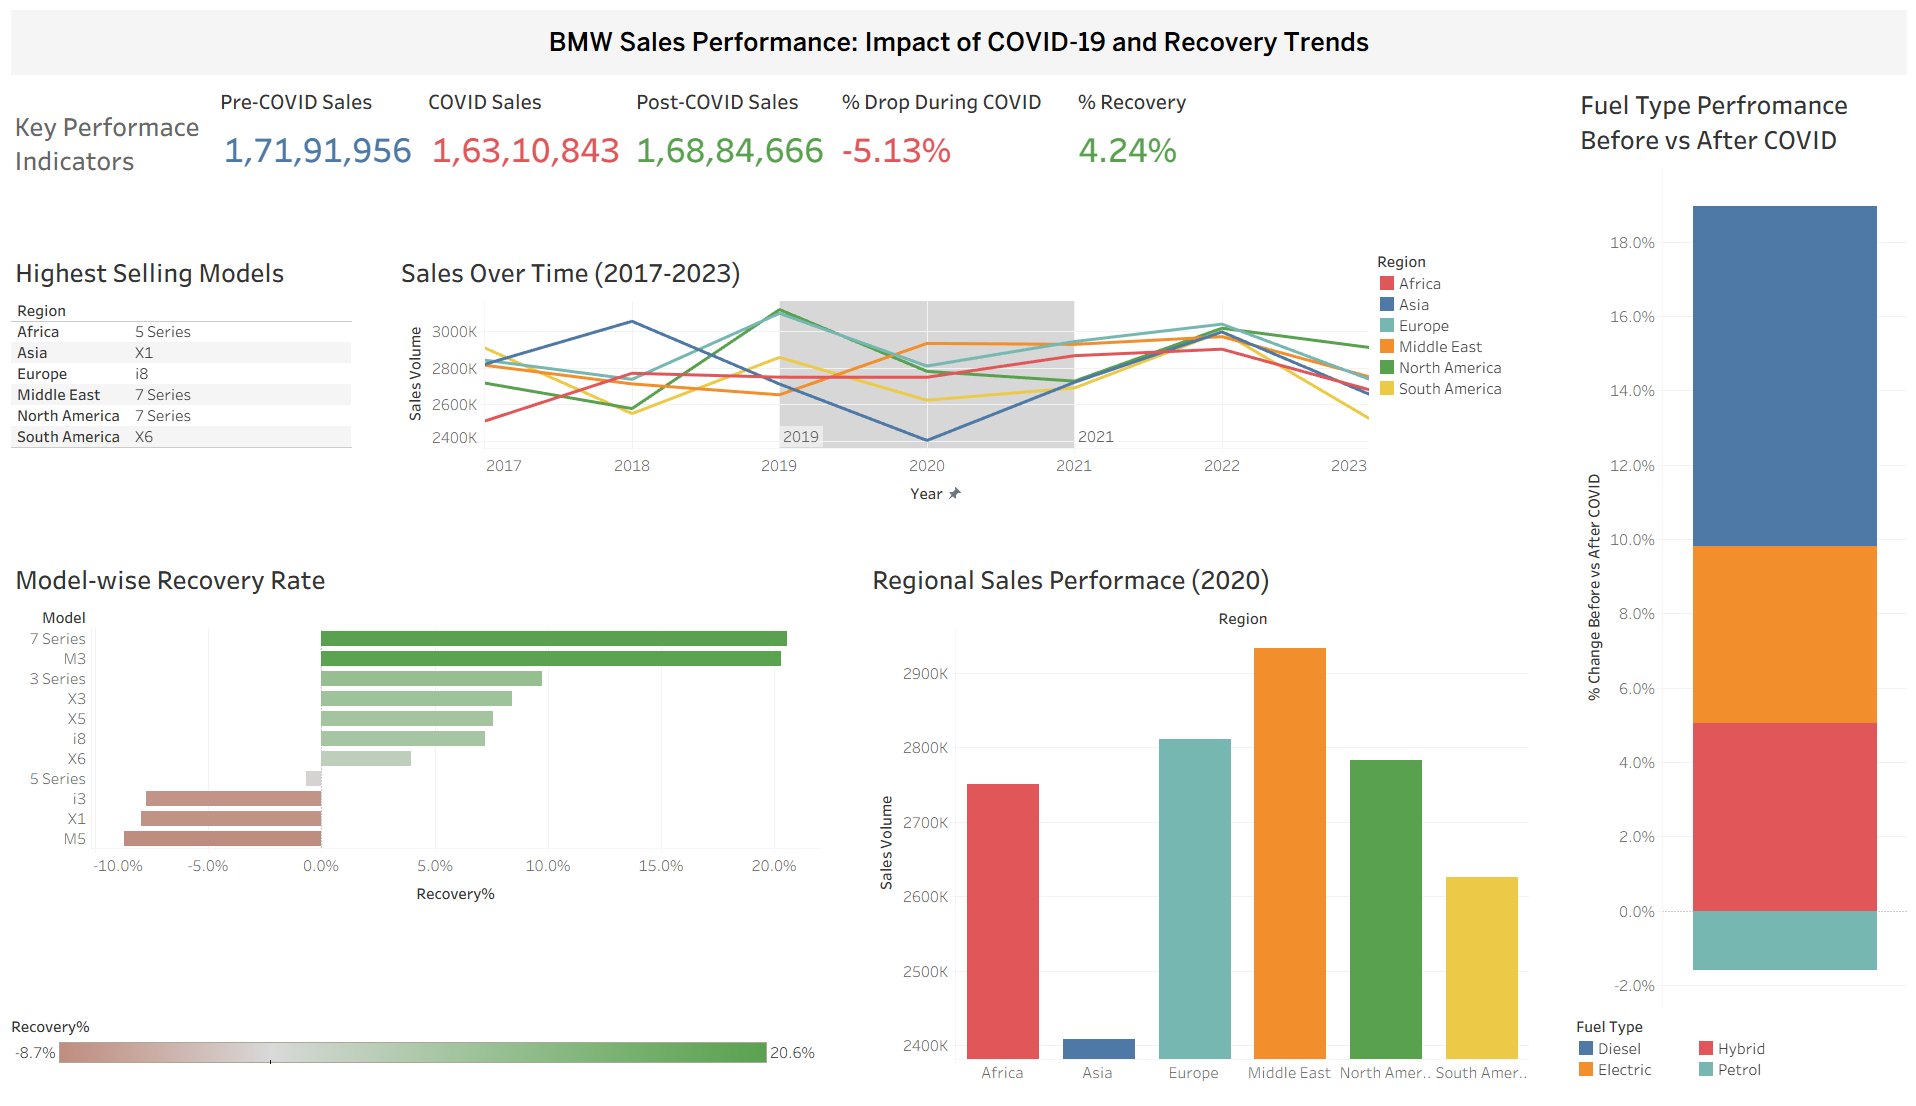

The dashboard page shown, as its layout file describes it:
{"tool":"tableau","page":{"name":"Dashboard 1","canvas":[1000,1000],"units":"permille","ordinal":0},"visuals":[{"type":"text","box":[4.8,8.7,990.3,65.7]},{"type":"text","box":[4.8,74.4,123.7,115.6]},{"type":"worksheet","title":"Pre covid sals","mark":"Automatic","box":[128.6,74.4,125.5,115.6]},{"type":"worksheet","title":"Covid sales","mark":"Automatic","box":[254.1,74.4,125.5,115.6]},{"type":"worksheet","title":"Post covid sales","mark":"Automatic","box":[379.6,74.4,124.3,115.6]},{"type":"worksheet","title":"% Drop during covid","mark":"Automatic","box":[503.9,74.4,142.4,115.6]},{"type":"worksheet","title":"% recovery","mark":"Automatic","box":[646.4,74.4,152.2,115.6]},{"type":"worksheet","title":"% Change in fuel type","mark":"Automatic","rows":["Calculation_1503076381036609542"],"box":[818.9,74.4,176.3,835.5]},{"type":"worksheet","title":"Highest selling models","mark":"Automatic","rows":["Region"],"box":[4.8,224.7,181.6,239.9]},{"type":"worksheet","title":"Sales Trend","mark":"Automatic","rows":["Sales_Volume"],"cols":["Year"],"box":[205.8,224.7,496.3,239.9]},{"type":"legend","title":"Sales Trend","param":"[federated.04vl82m1xuv5xi180pguv1v9ipzi].[none:Region:nk]","box":[702.1,224.7,96.6,169.4]},{"type":"worksheet","title":"Recovery%","mark":"Automatic","rows":["Model"],"cols":["Calculation_1127307286928130065"],"box":[4.8,499.4,425.1,410.4]},{"type":"worksheet","title":"Regional Sales in 2020","mark":"Automatic","rows":["Sales_Volume"],"cols":["Region"],"box":[450.4,499.4,348.2,491.9]},{"type":"legend","title":"Recovery%","param":"[federated.04vl82m1xuv5xi180pguv1v9ipzi].[usr:Calculation_1127307286928130065:qk","box":[4.8,909.9,425.1,81.5]},{"type":"legend","title":"% Change in fuel type","param":"[federated.04vl82m1xuv5xi180pguv1v9ipzi].[none:Fuel_Type:nk]","box":[818.9,909.9,176.3,81.5]}]}

Visuals, with their boxes on the dashboard's canvas, which has no fixed pixel size, in thousandths of its width and height (x1, y1, x2, y2). These are canvas units, not pixel positions in the 1916x1106 screenshot, which may show the page scaled, cropped or inside an application window:
text: BBox(5, 9, 995, 74)
text: BBox(5, 74, 128, 190)
"Pre covid sals" worksheet: BBox(129, 74, 254, 190)
"Covid sales" worksheet: BBox(254, 74, 380, 190)
"Post covid sales" worksheet: BBox(380, 74, 504, 190)
"% Drop during covid" worksheet: BBox(504, 74, 646, 190)
"% recovery" worksheet: BBox(646, 74, 799, 190)
"% Change in fuel type" worksheet: BBox(819, 74, 995, 910)
"Highest selling models" worksheet: BBox(5, 225, 186, 465)
"Sales Trend" worksheet: BBox(206, 225, 702, 465)
"Sales Trend" legend: BBox(702, 225, 799, 394)
"Recovery%" worksheet: BBox(5, 499, 430, 910)
"Regional Sales in 2020" worksheet: BBox(450, 499, 799, 991)
"Recovery%" legend: BBox(5, 910, 430, 991)
"% Change in fuel type" legend: BBox(819, 910, 995, 991)
